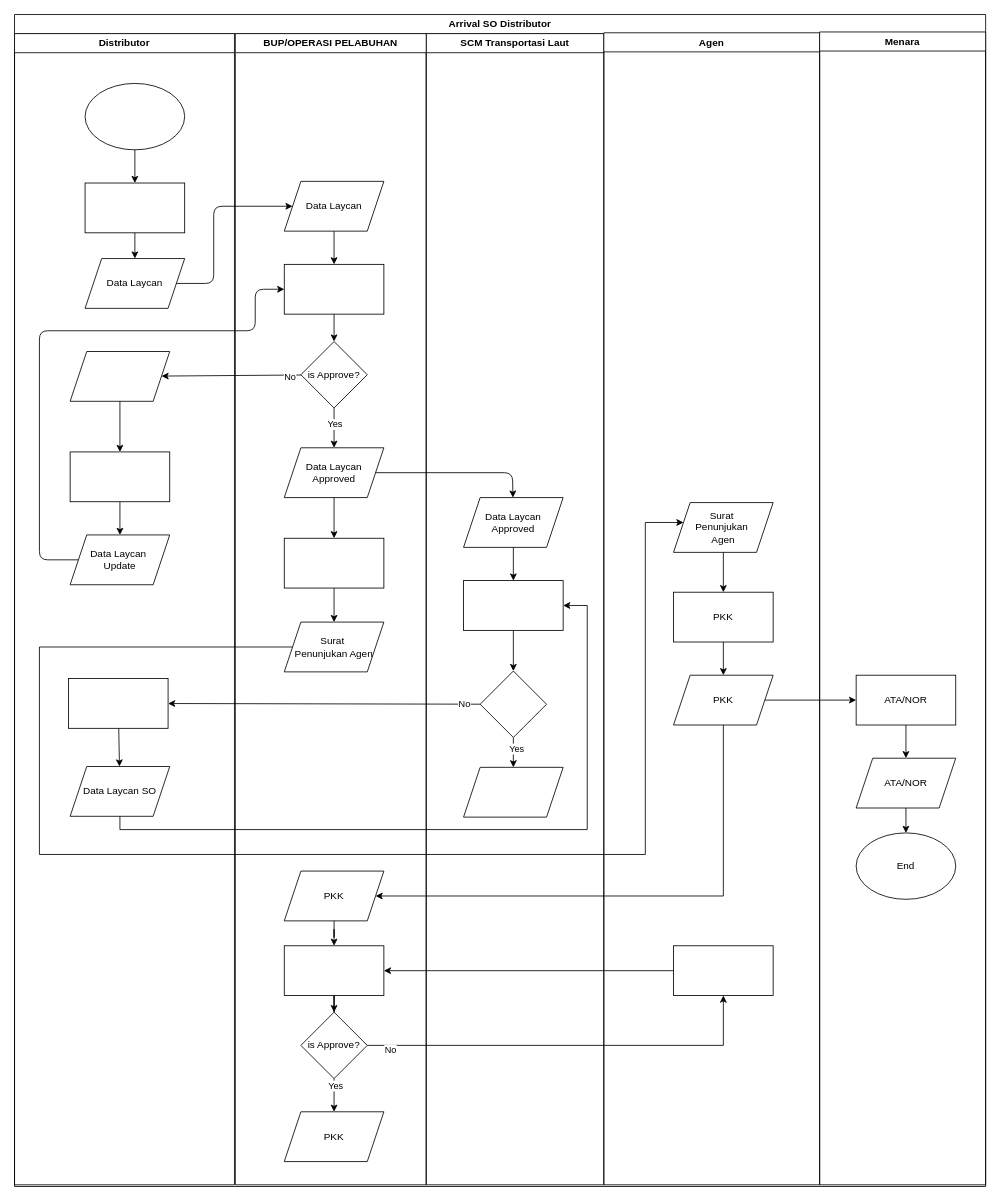
Image size: 1000x1201. Some labels were removed from this diagram. Each missing label, with the centre of its shape:
"Approval PKK" goes at (x=333, y=970).
"Approve Laycan" goes at (x=333, y=289).
"Assign SO" goes at (x=118, y=703).
"Create Laycan" goes at (x=134, y=207).
"Data Laycan Revise" goes at (x=119, y=376).
"Entry Ekspeditur & PO-STO" goes at (x=513, y=605).
"Is there a SO?" goes at (x=513, y=703).
"Penunjukan Agen" goes at (x=333, y=562).
"SPM Ekspeditur" goes at (x=513, y=792).
"Start" goes at (x=134, y=116).
"Update Data" goes at (x=119, y=476).
"Update PKK" goes at (x=723, y=970).
